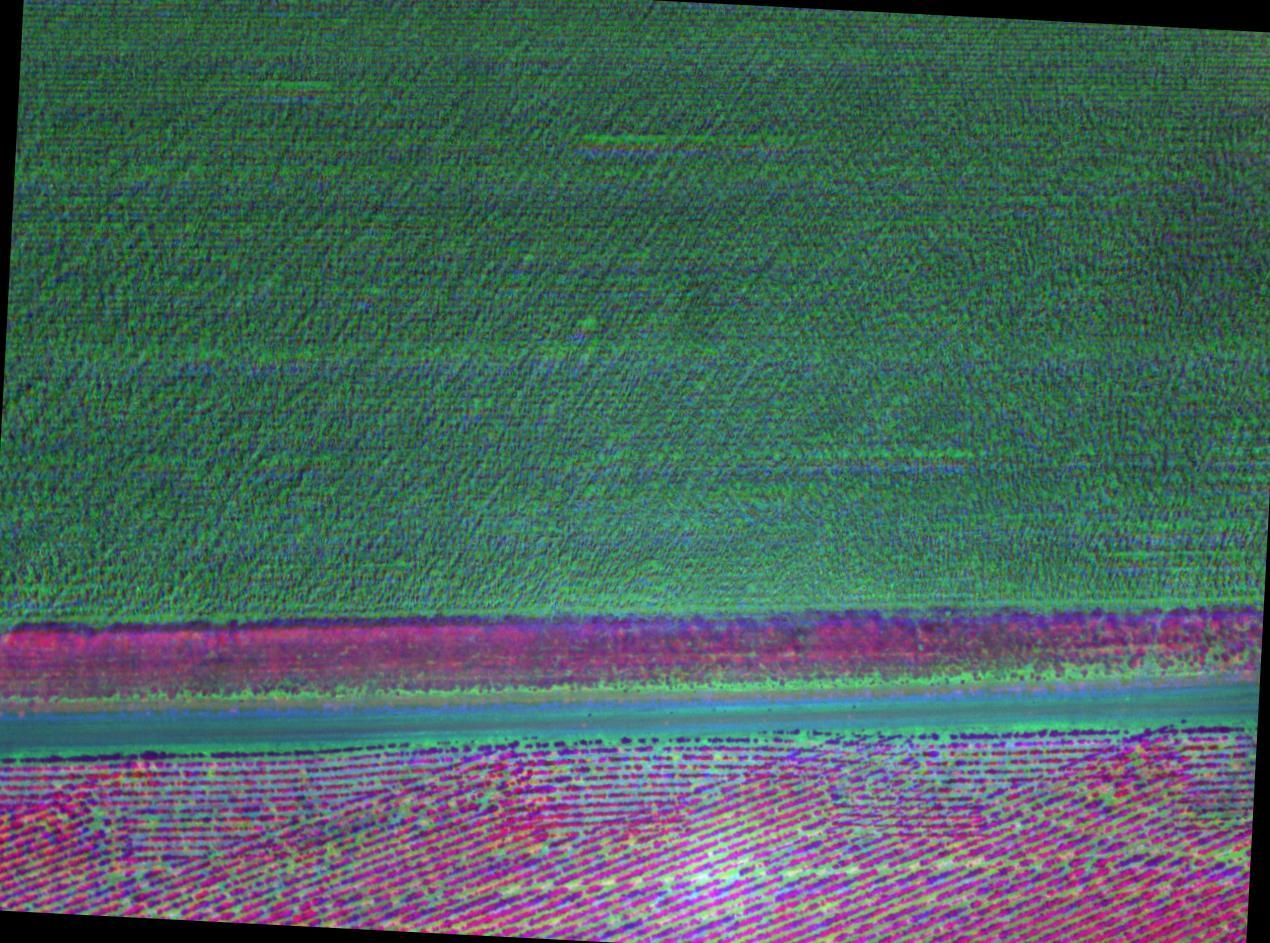dc: (97, 811, 103, 818), (422, 821, 427, 826), (608, 879, 612, 885), (1107, 793, 1111, 798), (482, 798, 486, 802), (810, 830, 814, 834), (822, 907, 826, 911), (1065, 820, 1068, 823)
